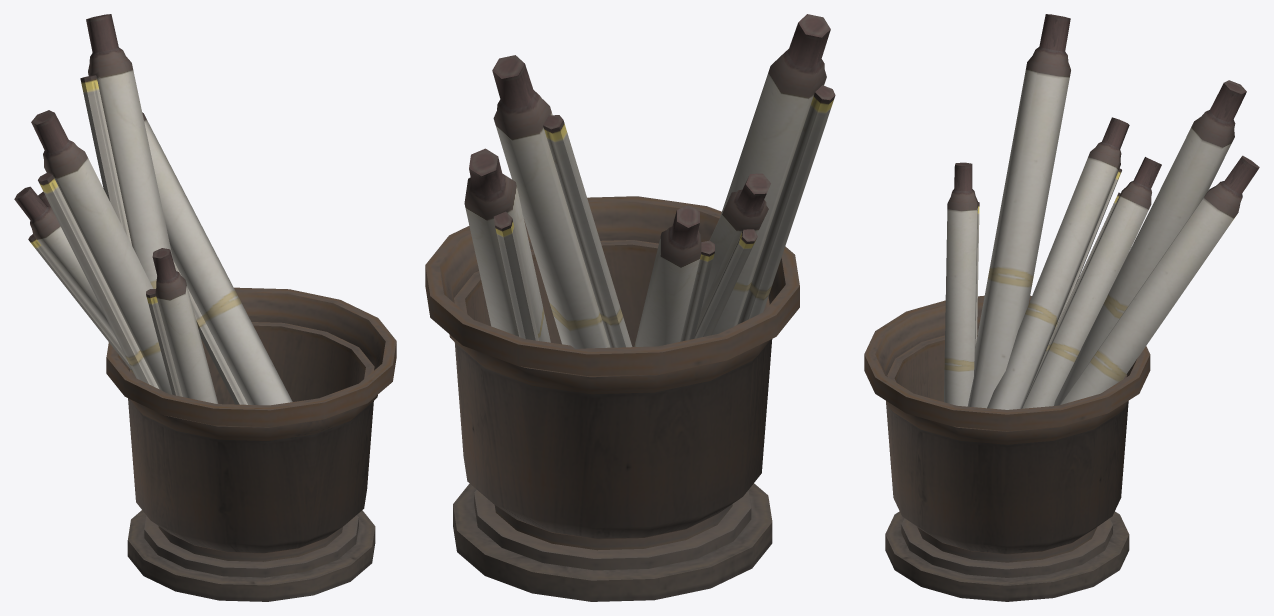
The model's file is mt_dj_huajuan_01.fbx.
3 views of the same model, side by side, from view 1: azimuth 30°, elevation 25°; view 2: azimuth 150°, elevation 25°; view 3: azimuth 270°, elevation 25° (orthographic). The views are drawn at different scales.
Parts seen in each view (by area): view 1: mt_dj_huajuan_01; view 2: mt_dj_huajuan_01; view 3: mt_dj_huajuan_01.
Boxes of the visible parts, x1,y1,x2,y2 form: mt_dj_huajuan_01: [14, 14, 396, 601]; mt_dj_huajuan_01: [425, 14, 835, 601]; mt_dj_huajuan_01: [864, 14, 1259, 601].
Bounding box in the file's own units: 75.47 × 83.03 × 109.
